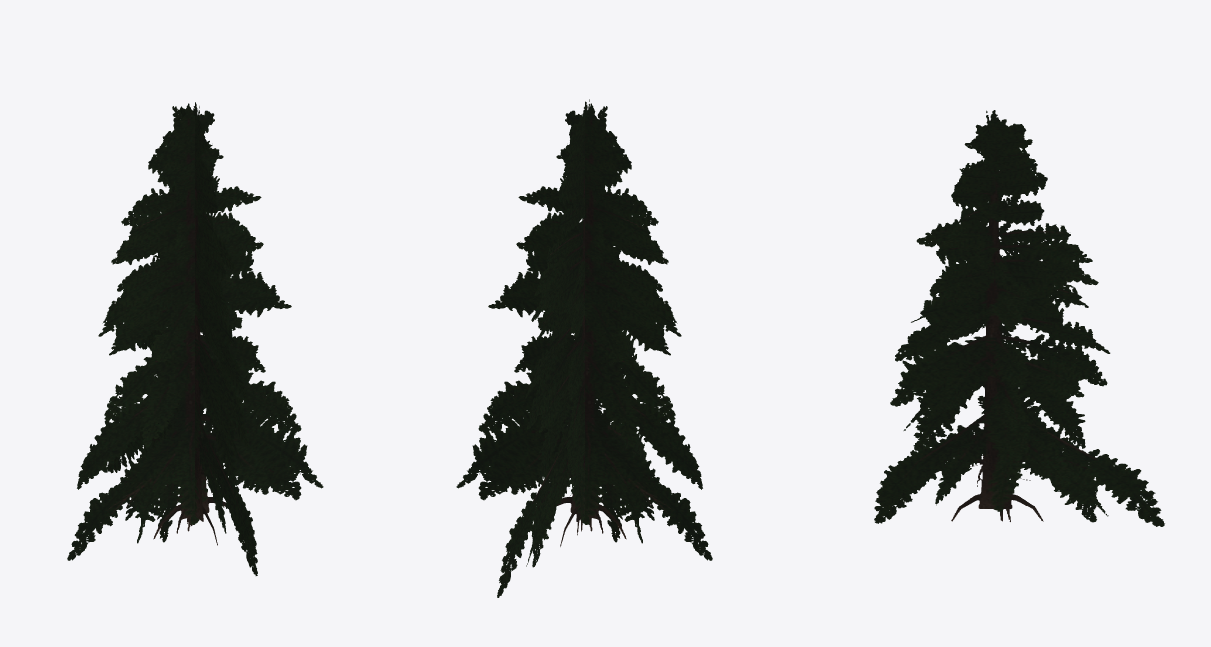
Rendered from pine_c_billboard.glb.
3 views of the same model, side by side, from view 1: azimuth 30°, elevation 25°; view 2: azimuth 150°, elevation 25°; view 3: azimuth 270°, elevation 25° (orthographic). The views are drawn at different scales.
Parts seen in each view (by area): view 1: pine_c_billboard; view 2: pine_c_billboard; view 3: pine_c_billboard.
Part boxes in pixels (box(x1,y1,x2,y2)): pine_c_billboard: box(67, 102, 323, 575); pine_c_billboard: box(456, 99, 712, 597); pine_c_billboard: box(874, 110, 1164, 526).
Size of the model in its own units: 9 by 11.08 by 9.
1 material, 1 textured.
